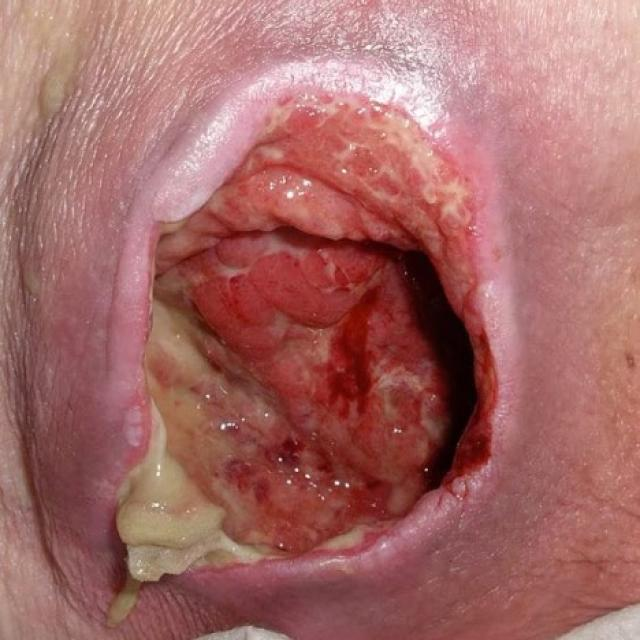stage-4: (114, 95, 495, 582)
